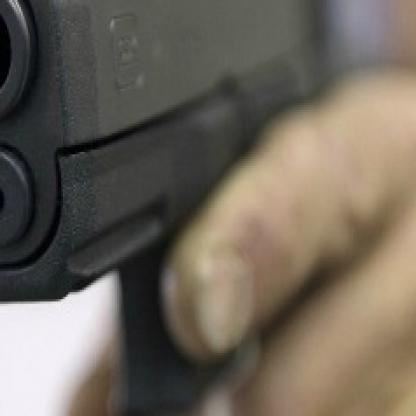gun: (0, 0, 378, 414)
